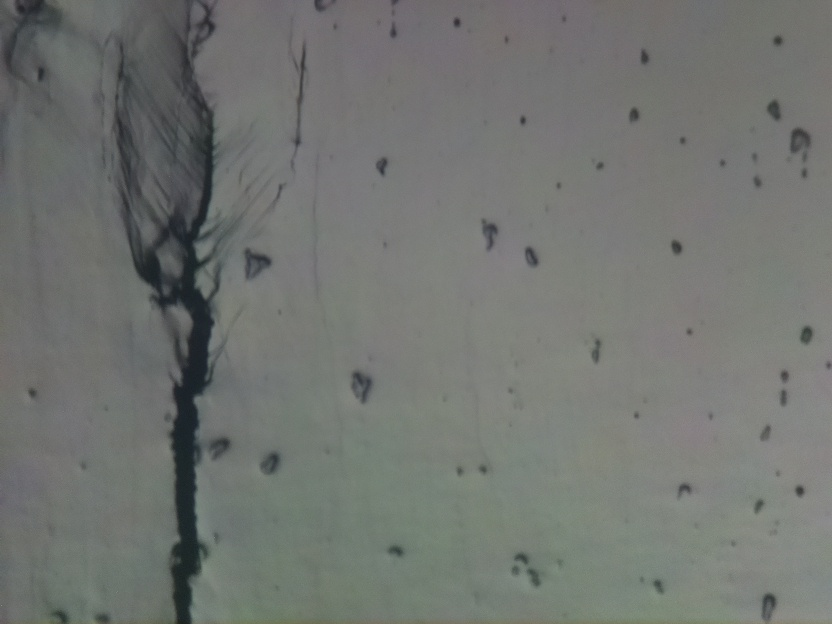crack: (111, 0, 215, 624), (291, 33, 313, 169)
